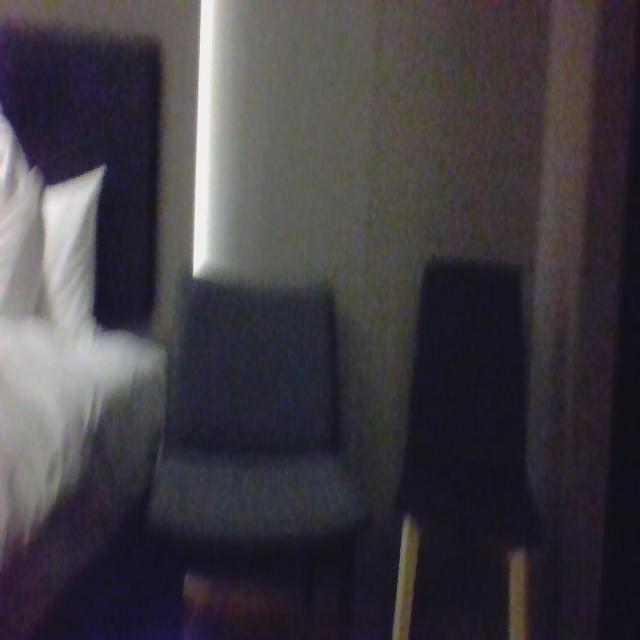empty: (178, 264, 354, 526), (420, 255, 521, 520)
